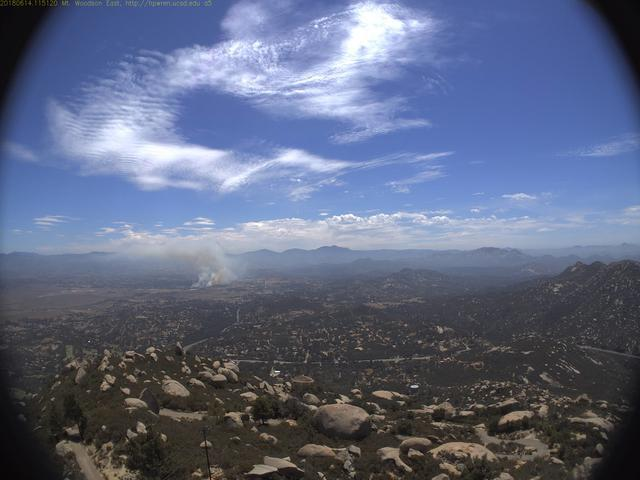smoke: (187, 236, 261, 291)
